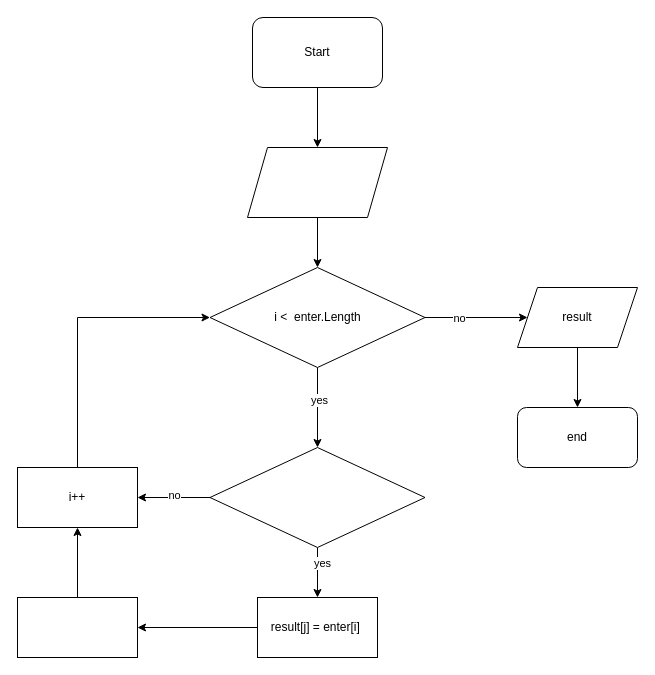
Image size: 655x675. Some labels were removed from this diagram. Here are the shapes that lost their labels. From the top down, the box of each, then its label:
(246, 146, 388, 218): string[] enter, string[] result, int i = 0, int j = 0, int n = 3
(209, 446, 425, 548): enter[i].Length <= n
(16, 596, 138, 658): j++
